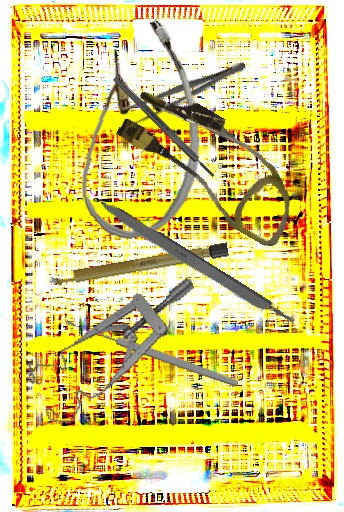Cannula: (104, 75, 318, 251), (72, 16, 205, 242)
Dressing Forceps: (117, 53, 250, 132)
Scalpel Handle: (95, 197, 297, 331), (111, 74, 217, 180), (48, 241, 229, 288)
Speculum: (14, 275, 221, 431)
Surgical Spoon: (64, 316, 240, 389)
